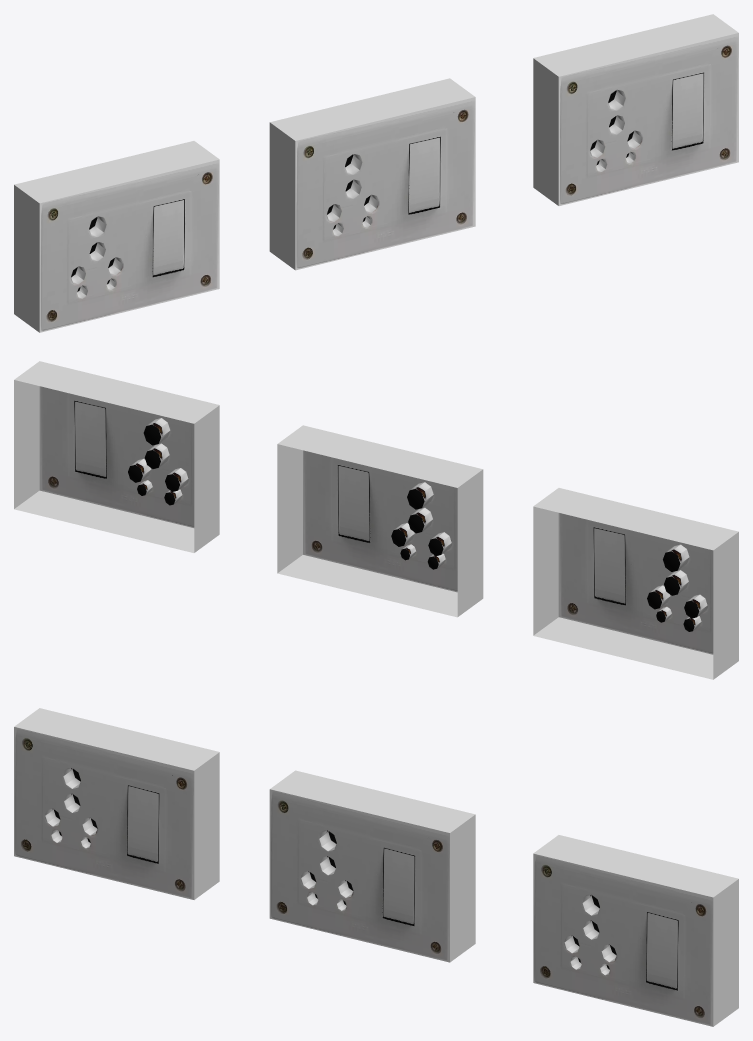
Rendered from switch.fbx.
The picture shows the model from 3 angles, top to bottom: view 1: azimuth 30°, elevation 25°; view 2: azimuth 150°, elevation 25°; view 3: azimuth 330°, elevation 25°; orthographic projection.
Visible parts, largest first — view 1: switch4; view 2: switch4; view 3: switch4.
Boxes of the visible parts, x1=… form: switch4: x1=14, y1=14, x2=738, y2=332; switch4: x1=14, y1=361, x2=738, y2=679; switch4: x1=14, y1=708, x2=738, y2=1026.
Size of the model in its own units: 147 by 26.01 by 9.33.
3 materials, 1 textured.
